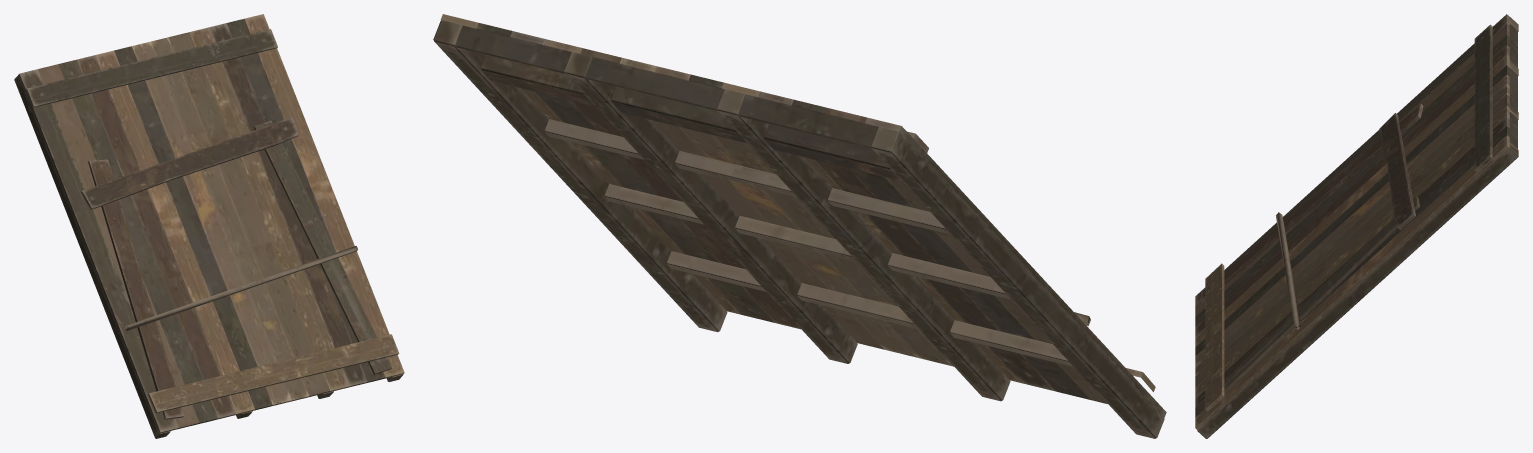
The model's file is roof.frontier.full_c.glb.
3 views of the same model, side by side, from view 1: azimuth 30°, elevation 25°; view 2: azimuth 150°, elevation 25°; view 3: azimuth 270°, elevation 25° (orthographic). The views are drawn at different scales.
Parts seen in each view (by area): view 1: roof_a_LOD0; view 2: roof_a_LOD0; view 3: roof_a_LOD0.
Boxes of the visible parts, <box> form: roof_a_LOD0: <box>14,14,404,438</box>; roof_a_LOD0: <box>433,14,1166,438</box>; roof_a_LOD0: <box>1195,14,1518,438</box>.
Size of the model in its own units: 3 by 3.12 by 3.12.
Materials: 1 (1 with a texture image).
